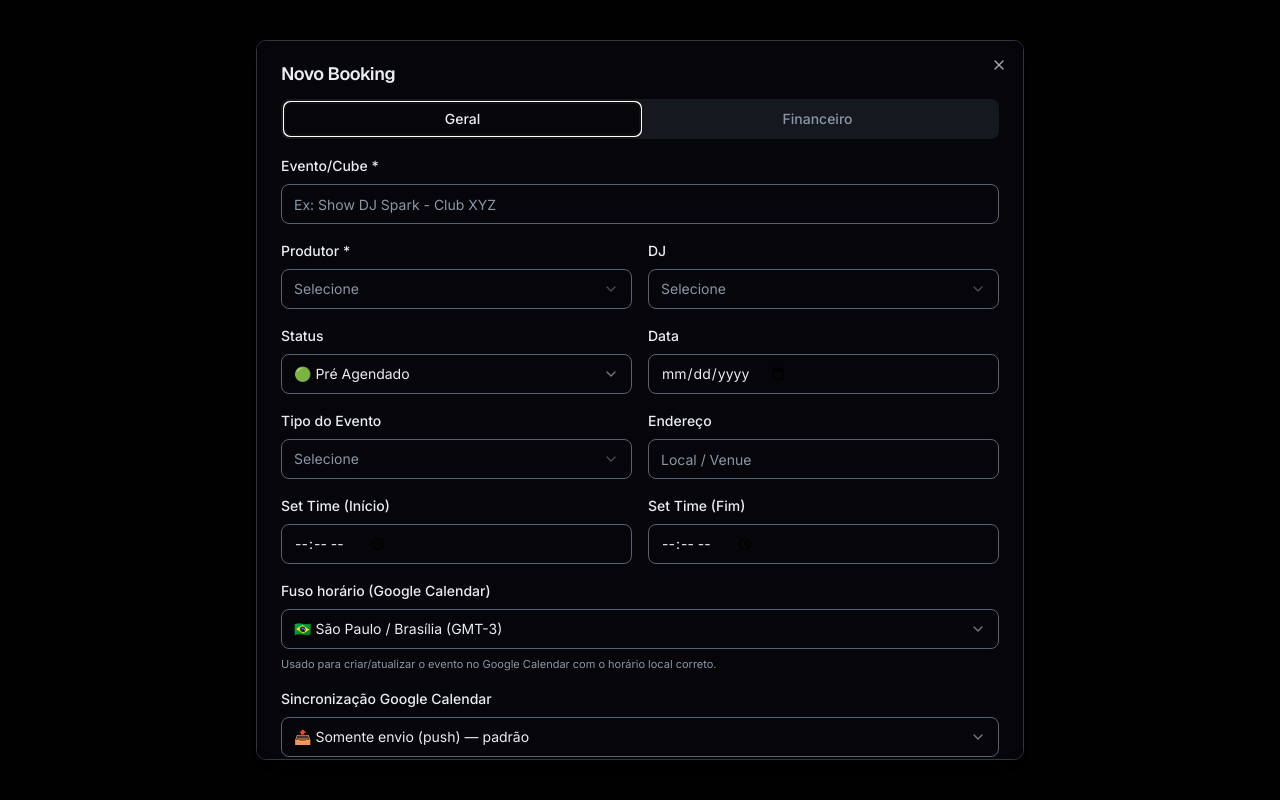
Test: BookingForm — validação cruzada de datas financeiras › alerta quando intervalo entre sinal e pagamento é maior que 2 anos
This screenshot has width=1280, height=800.
In the field labelled "Evento/Cube *": (640, 204) [281,184,999,224], type "Show Intervalo"
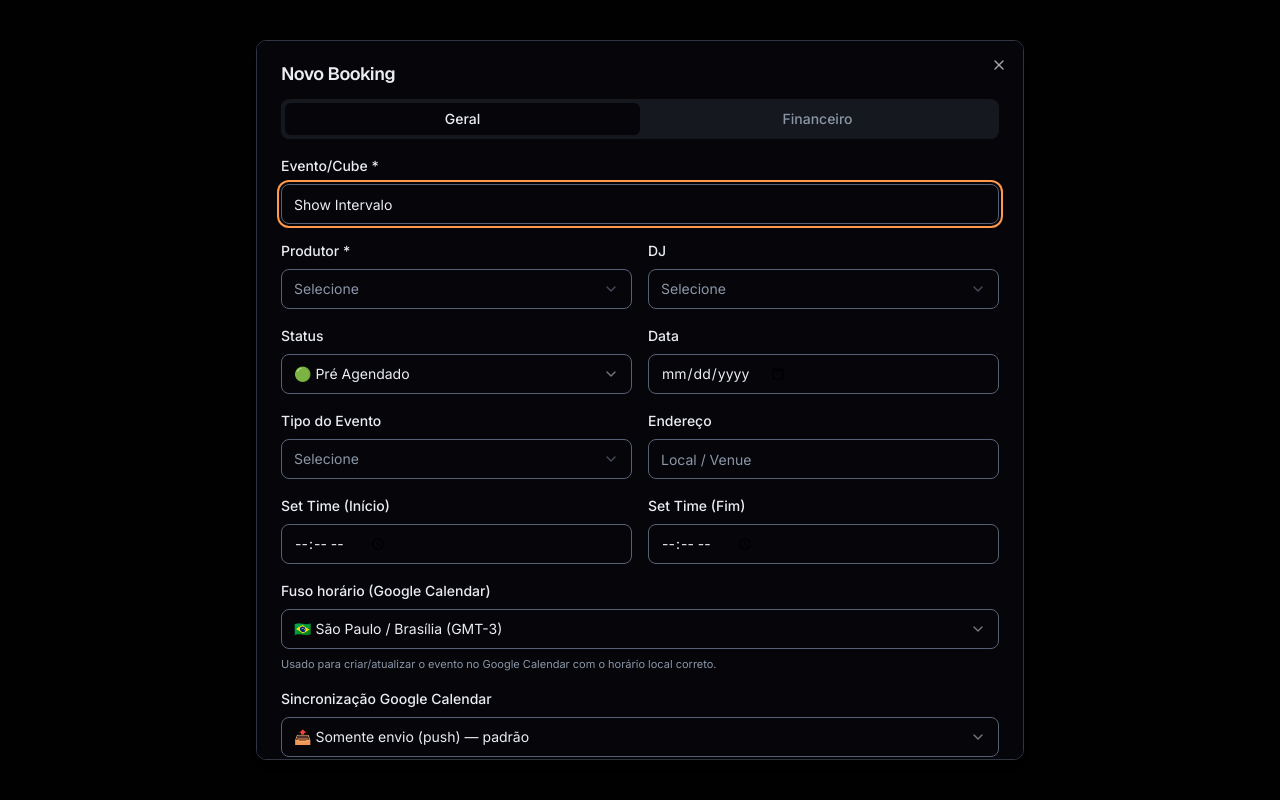
Click the dropdown labelled "Selecione" below "Produtor *": (326, 288) [281,269,632,309]
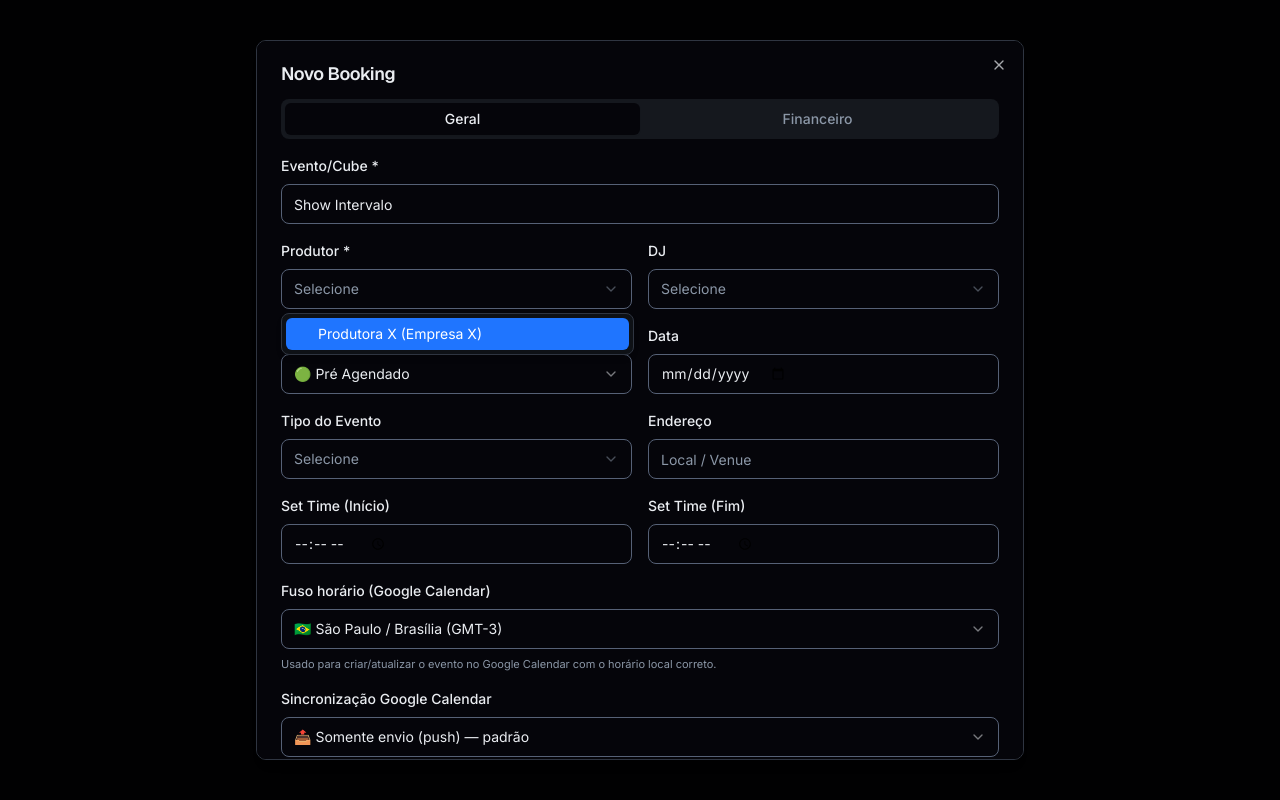
Click the option "Produtora X (Empresa X)": (458, 334) [286,318,629,350]
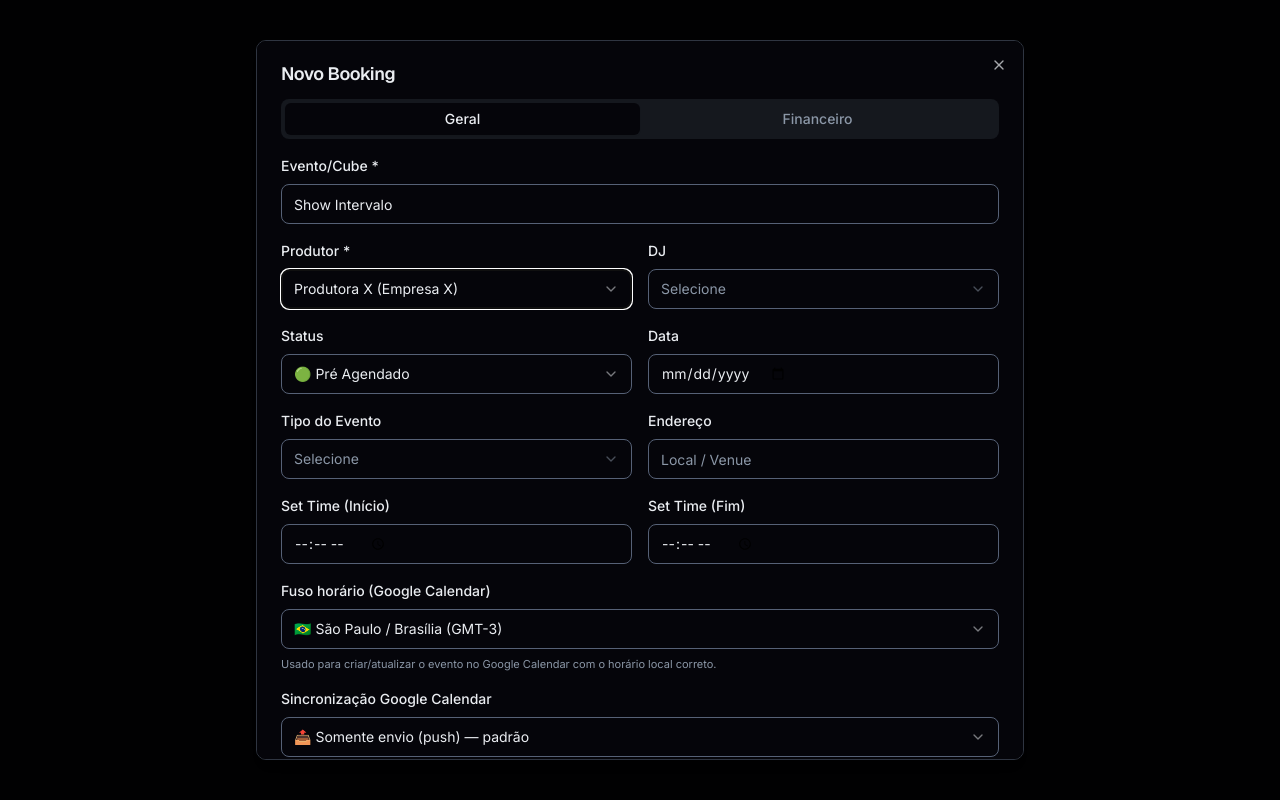
Click the tab "Financeiro": (818, 119) [640,103,995,135]
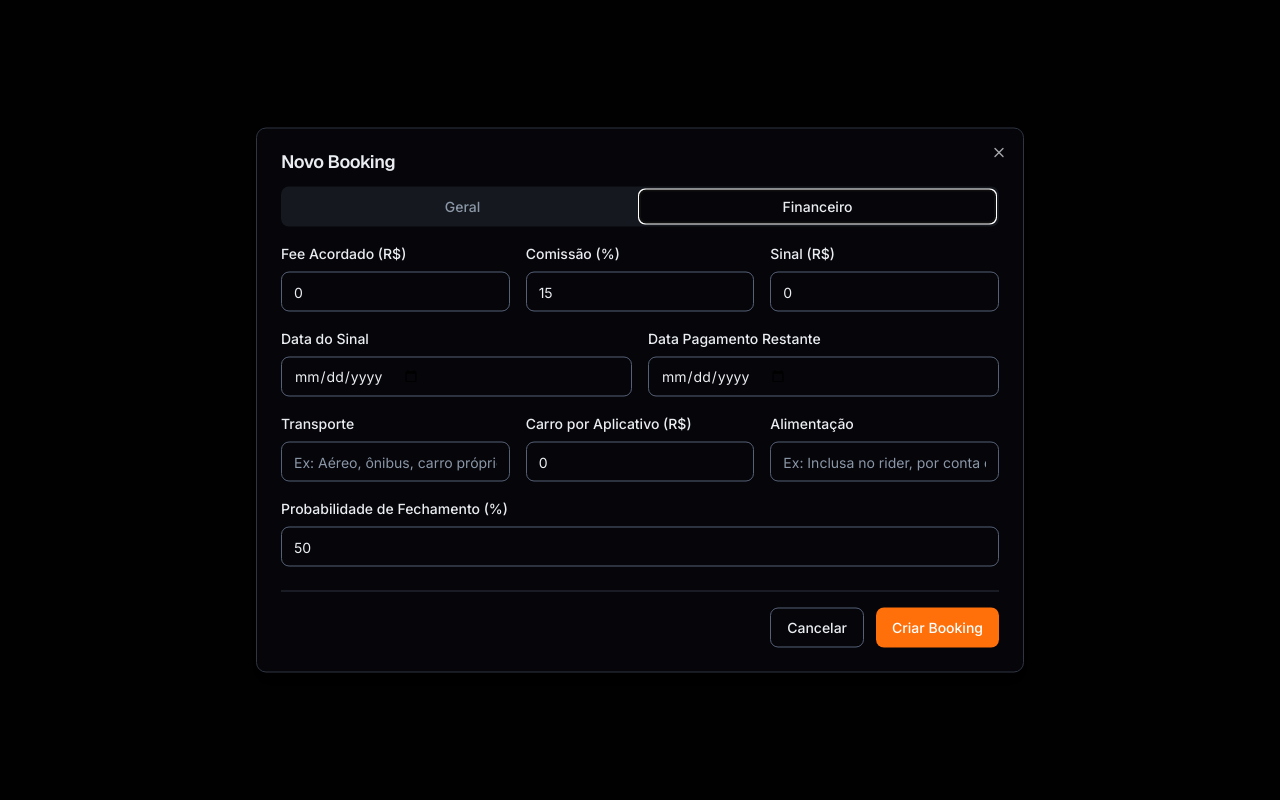
In the date field labelled "Data do Sinal": (456, 376) [281,356,632,396], type "2026-01-01"
In the date field labelled "Data Pagamento Restante": (824, 376) [648,356,999,396], type "2030-01-01"
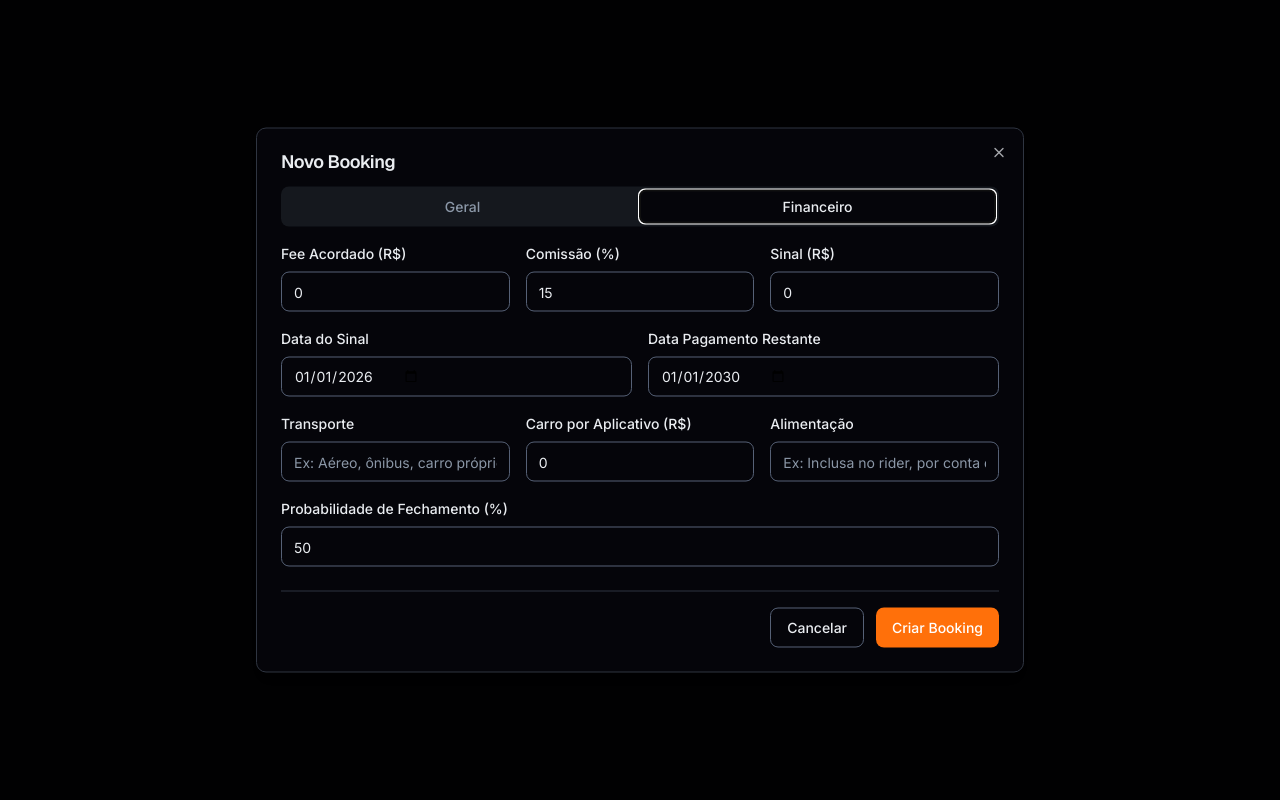
Click the button "Criar Booking": (938, 628) [876,608,999,648]
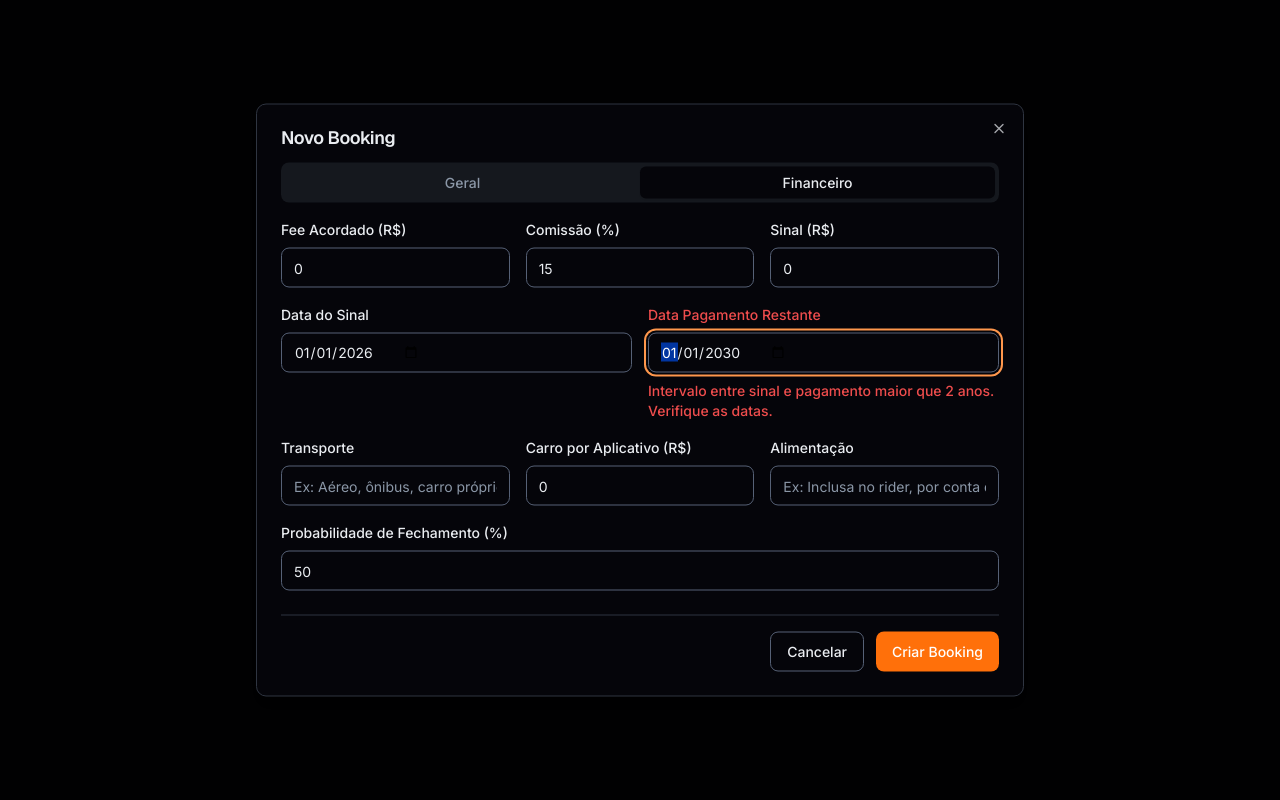
Expected: the text "Intervalo entre sinal e pagamento maior que 2 anos" is shown, [648,382,994,418]
